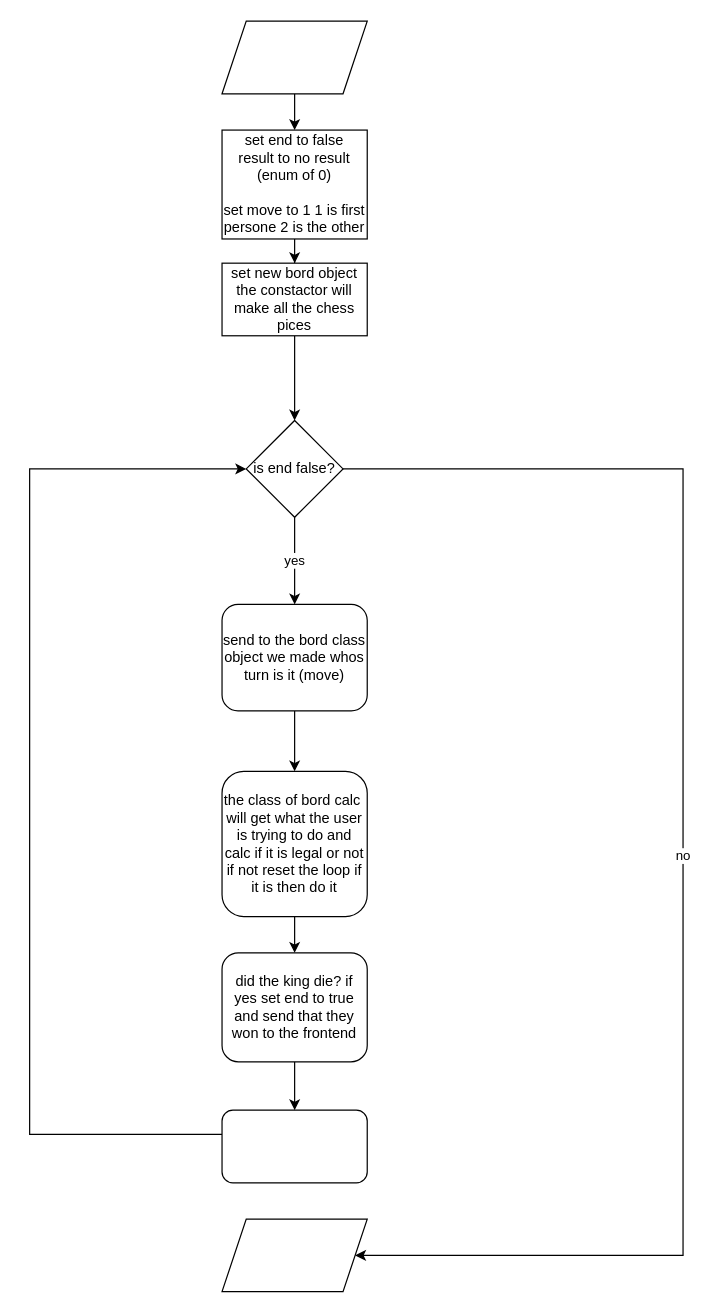
This 714x1313 diagram has some shape labels left out. The centre of each missing label's shape, as x and y in pixels:
"end code" belongs at point (294, 1255).
"start code" belongs at point (294, 57).
"update the turn if a legal move was made if it wasnt then keep it the same" belongs at point (294, 1146).
